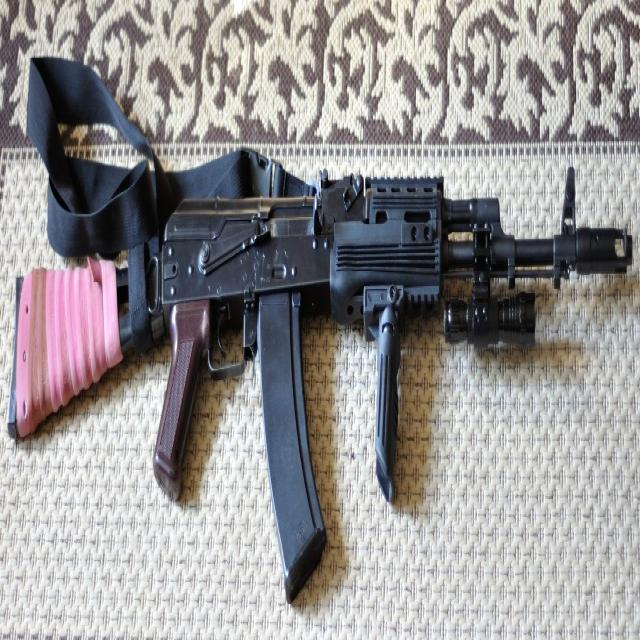firearm: (7, 166, 634, 604)
